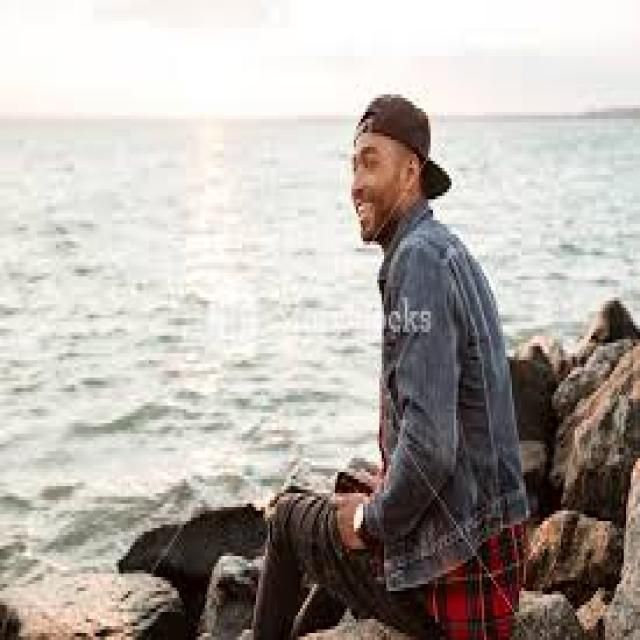cap: (349, 91, 454, 241)
